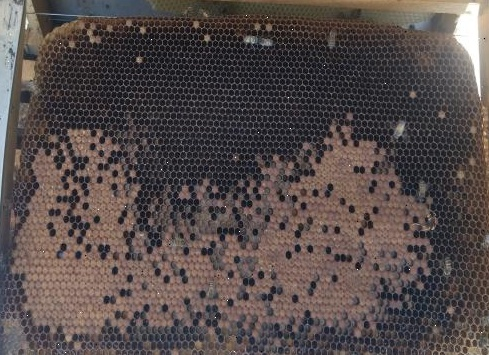cria: (10, 110, 441, 353)
